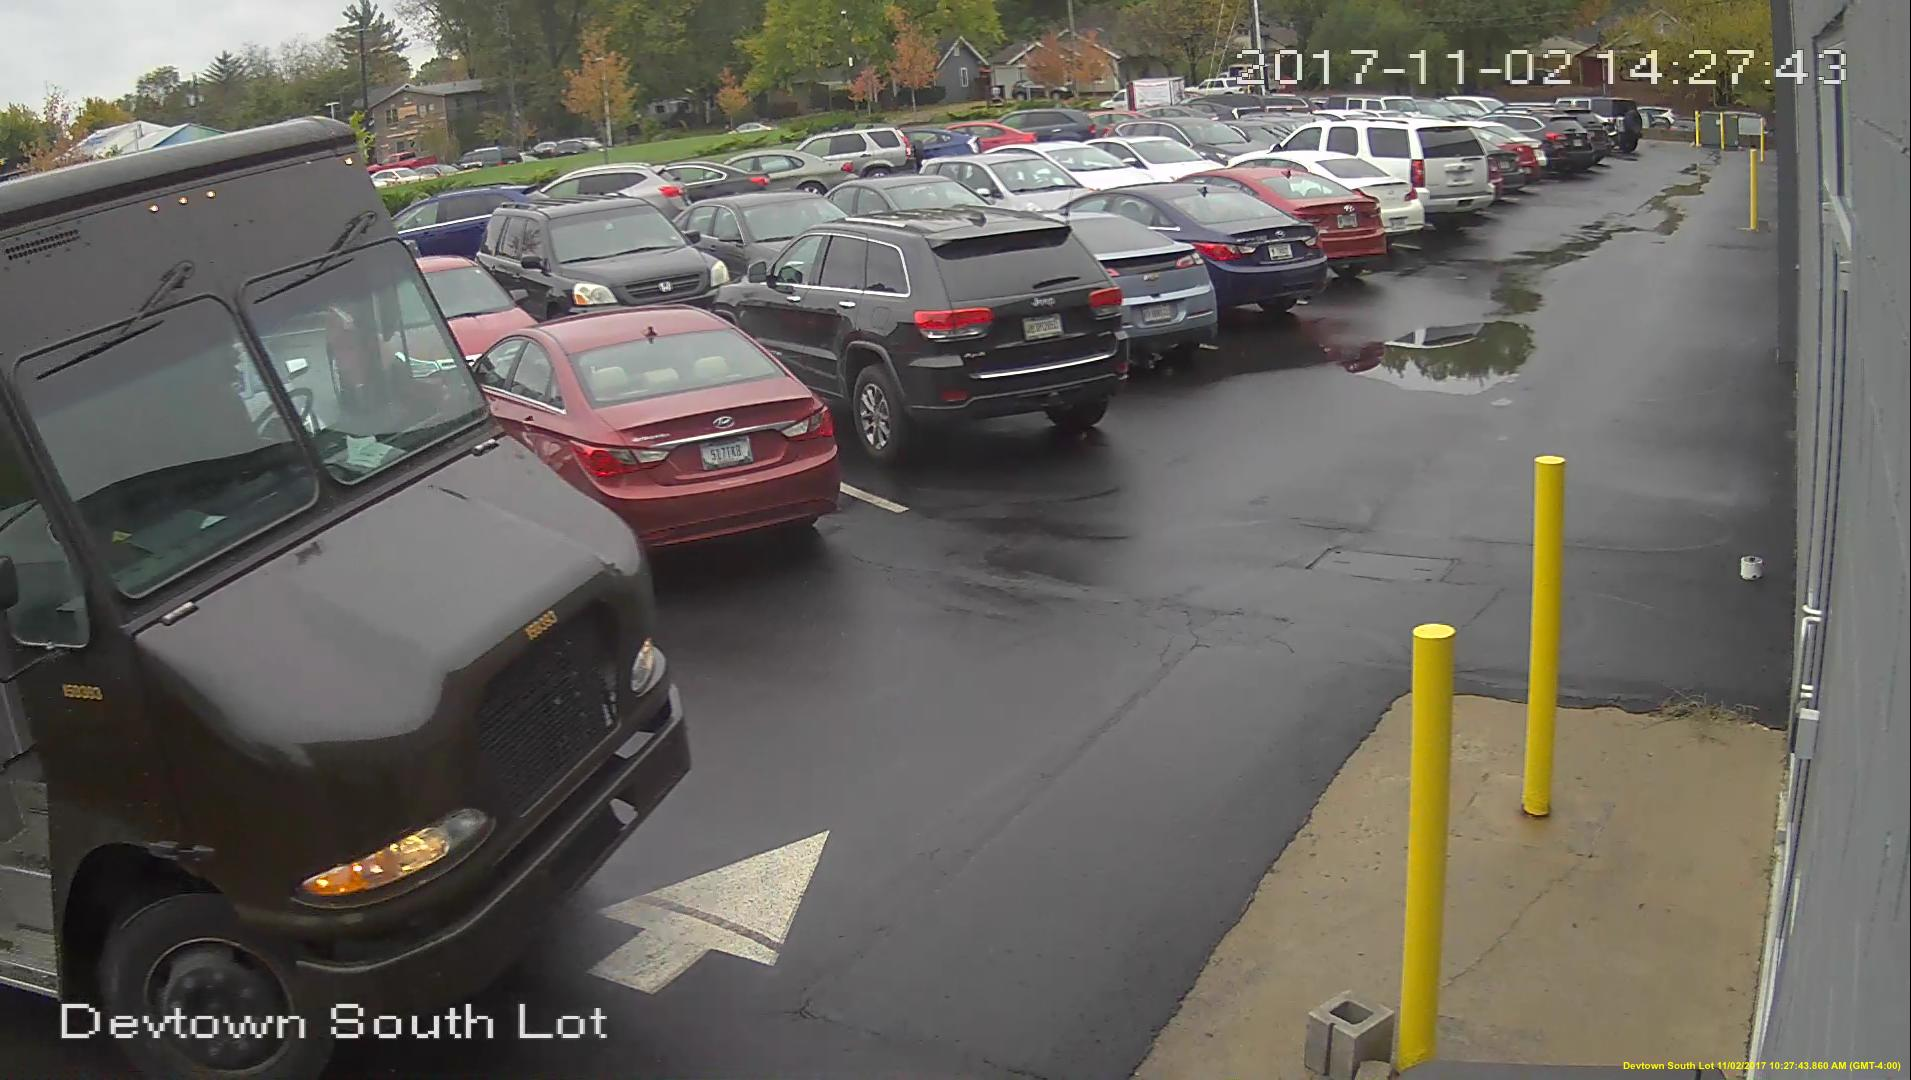ups_truck: (3, 113, 665, 1017)
